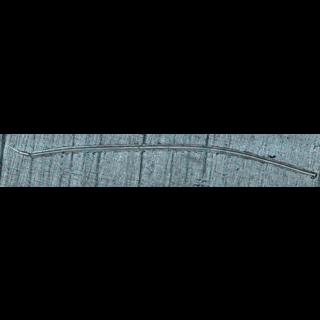d: (5, 141, 317, 180)
